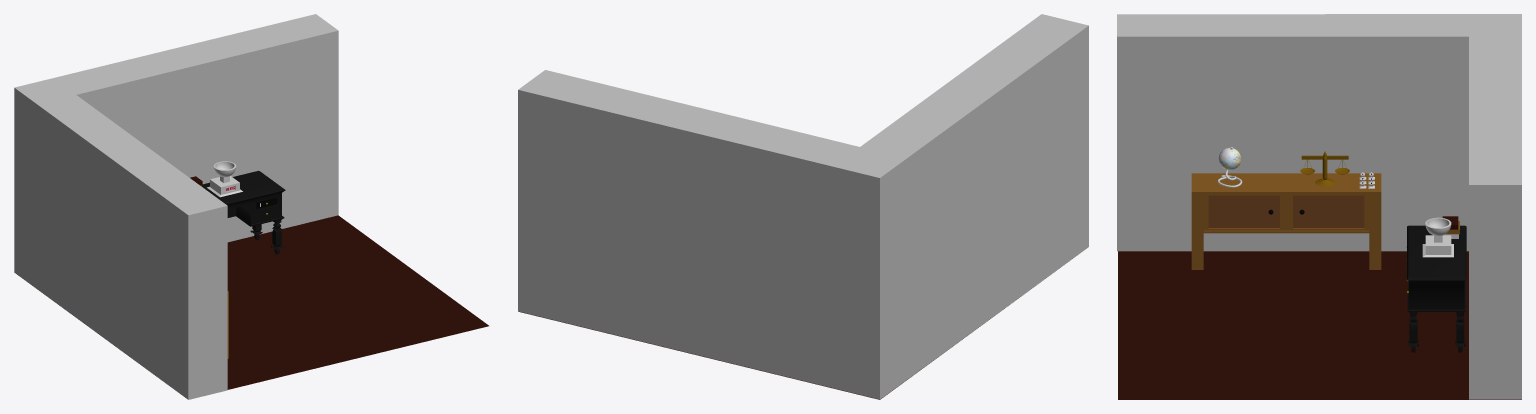
The model's file is Corner 3.fbx.
The picture shows the model from 3 angles, left to right: view 1: azimuth 30°, elevation 25°; view 2: azimuth 150°, elevation 25°; view 3: azimuth 270°, elevation 25°; orthographic projection. The views are drawn at different scales.
Visible parts, largest first — view 1: Cube, Plane, Secretária, Cube.002; view 2: Cube; view 3: Cube, Plane, Cube.001, Secretária, Cube.007, Cube.006, Cube.002, Sphere.003, Sphere.002.
Boxes of the visible parts, x1=… form: Cube: x1=14, y1=14, x2=338, y2=399; Plane: x1=14, y1=215, x2=488, y2=389; Secretária: x1=202, y1=170, x2=285, y2=254; Cube.002: x1=207, y1=176, x2=242, y2=197; Cube: x1=518, y1=14, x2=1088, y2=399; Cube: x1=1117, y1=14, x2=1521, y2=399; Plane: x1=1118, y1=251, x2=1521, y2=399; Cube.001: x1=1191, y1=173, x2=1381, y2=269; Secretária: x1=1407, y1=225, x2=1466, y2=352; Cube.007: x1=1208, y1=195, x2=1279, y2=227; Cube.006: x1=1293, y1=195, x2=1364, y2=227; Cube.002: x1=1422, y1=235, x2=1453, y2=257; Sphere.003: x1=1218, y1=147, x2=1241, y2=170; Sphere.002: x1=1425, y1=217, x2=1451, y2=236.
Bounding box in the file's own units: 886 × 523 × 885.
24 materials, 1 textured.
